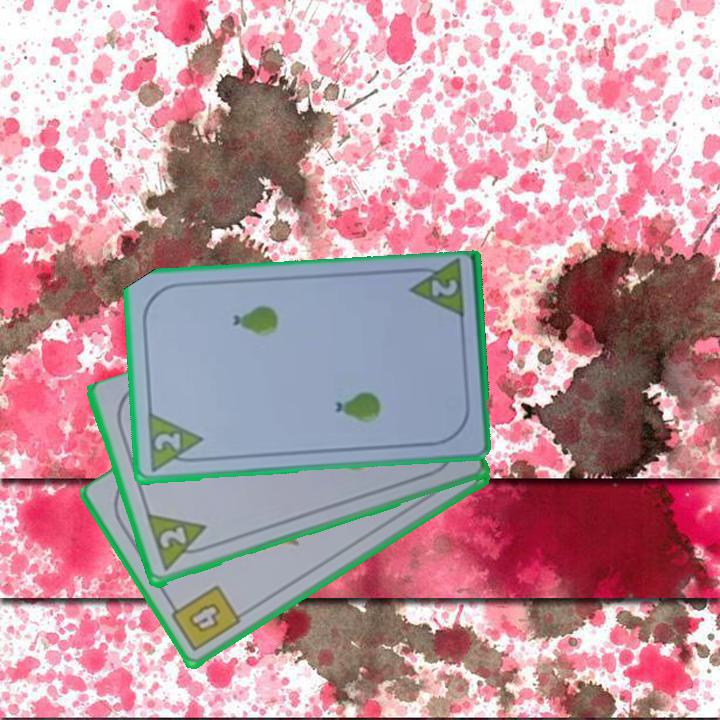2p: (155, 523, 189, 552), (427, 276, 461, 300), (151, 430, 184, 454)
4b: (165, 581, 244, 655)
